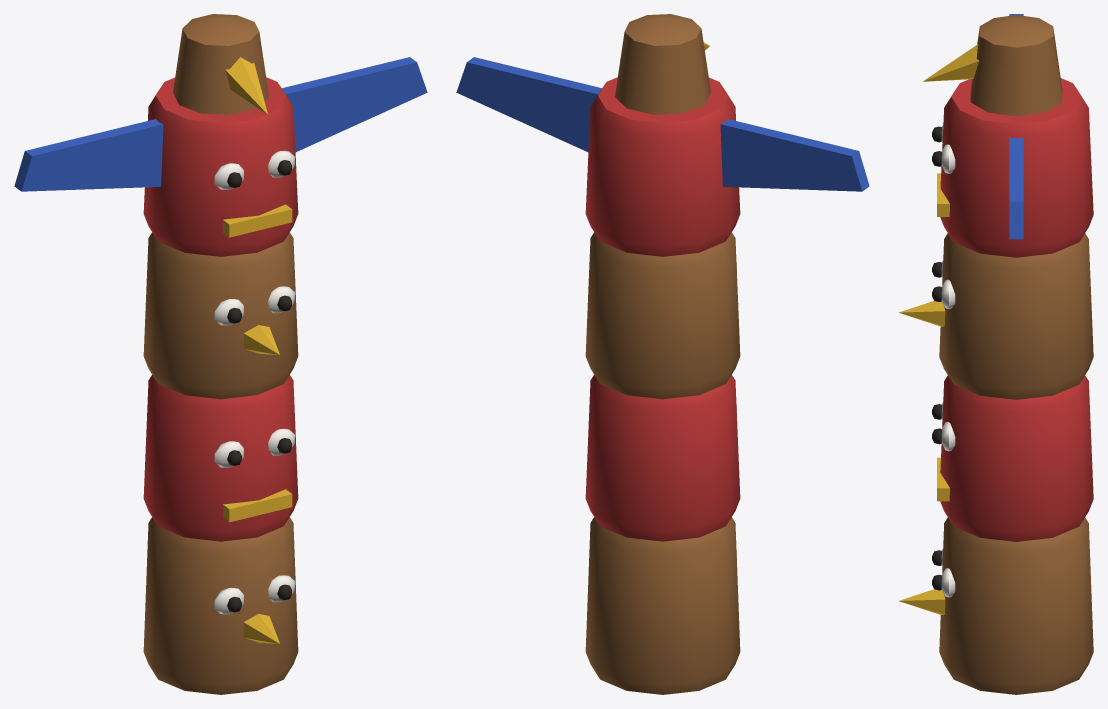
Rendered from totem-pixor.glb.
3 views of the same model, side by side, from view 1: azimuth 30°, elevation 25°; view 2: azimuth 150°, elevation 25°; view 3: azimuth 270°, elevation 25° (orthographic).
Visible parts, largest first — view 1: Totem pole, Totem wings, Totem beaks, Totem eyes, Totem pupils; view 2: Totem pole, Totem wings; view 3: Totem pole, Totem beaks, Totem wings, Totem eyes, Totem pupils.
Part boxes in pixels (<box>): Totem pole: <box>143,14,298,694</box>; Totem wings: <box>14,57,427,191</box>; Totem beaks: <box>223,57,292,643</box>; Totem eyes: <box>214,150,294,614</box>; Totem pupils: <box>227,160,291,612</box>; Totem pole: <box>585,14,740,694</box>; Totem wings: <box>456,57,869,191</box>; Totem pole: <box>939,15,1093,694</box>; Totem beaks: <box>899,44,978,614</box>; Totem wings: <box>1009,14,1023,239</box>; Totem eyes: <box>941,125,955,597</box>; Totem pupils: <box>932,126,941,590</box>.
Bounding box in the file's own units: 1.94 × 2.95 × 0.81.
